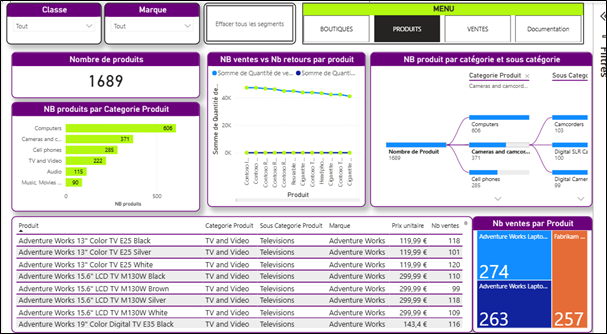

What the dashboard file says about the page in this screenshot:
{"tool":"powerbi","page":{"name":"PRODUITS","canvas":[1280,720],"ordinal":1},"visuals":[{"type":"slicer","title":"Classe","fields":{"Values":["Produits.Class"]},"box":[10,0,206.2,90],"z":0},{"type":"slicer","title":"Marque","fields":{"Values":["Produits.Marque"]},"box":[221.2,0,207.5,90],"z":1000},{"type":"card","title":"Nombre de produits","fields":{"Values":["Produits.NB produits"]},"box":[20.4,107.3,408.9,99.7],"z":2000},{"type":"barChart","fields":{"Category":["Categorie Produits.Categorie Produit"],"Y":["Produits.NB produits"]},"box":[20.4,214.7,408.9,237.7],"z":3000},{"type":"tableEx","fields":{"Values":["Produits.Produit","Categorie Produits.Categorie Produit","Sous Categories Produits.Sous Categorie Produit","Produits.Marque","Produits.Prix unitaire","Sales.Nb ventes"]},"box":[20,462.9,1000,252.9],"z":4000},{"type":"lineChart","title":"NB ventes vs Nb retours par produit","fields":{"Category":["Produits.Produit"],"Y":["Sum(Sales.Quantité de vente)","Sum(Sales.Quantité de retour)"]},"box":[444.3,107.1,342.9,335.7],"z":5000},{"type":"decompositionTreeVisual","title":"NB produit par catégorie et sous catégorie","fields":{"Analyze":["CountNonNull(Produits.Produit)"],"ExplainBy":["Categorie Produits.Categorie Produit","Sous Categories Produits.Sous Categorie Produit"]},"box":[798.6,107.1,481.4,335.7],"z":6000},{"type":"treemap","fields":{"Group":["Produits.Produit"],"Values":["Sales.Nb ventes"]},"box":[1020,462.9,260,252.9],"z":7000},{"type":"actionButton","box":[436.2,0,200,90],"z":8000},{"type":"pageNavigator","title":"MENU","box":[651.1,0,610,90],"z":9000}]}

Visuals, with their boxes in screenshot pixels (x1, y1, x2, y2), scaled from the page's 1280x720 canvas onto the 607x334 screenshot:
"Classe" slicer: bbox=[5, 0, 103, 42]
"Marque" slicer: bbox=[105, 0, 203, 42]
"Nombre de produits" card: bbox=[10, 50, 204, 96]
barChart - Categorie Produits.Categorie Produit x Produits.NB produits: bbox=[10, 100, 204, 210]
tableEx - Produits.Produit x Categorie Produits.Categorie Produit: bbox=[9, 215, 484, 332]
"NB ventes vs Nb retours par produit" lineChart: bbox=[211, 50, 373, 205]
"NB produit par catégorie et sous catégorie" decompositionTreeVisual: bbox=[379, 50, 606, 205]
treemap - Produits.Produit x Sales.Nb ventes: bbox=[484, 215, 606, 332]
actionButton: bbox=[207, 0, 302, 42]
"MENU" pageNavigator: bbox=[309, 0, 598, 42]
